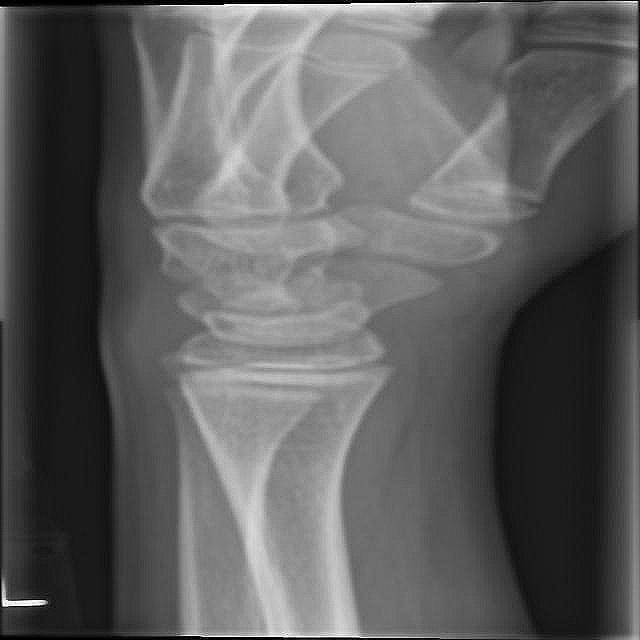bone: (198, 436, 354, 512)
